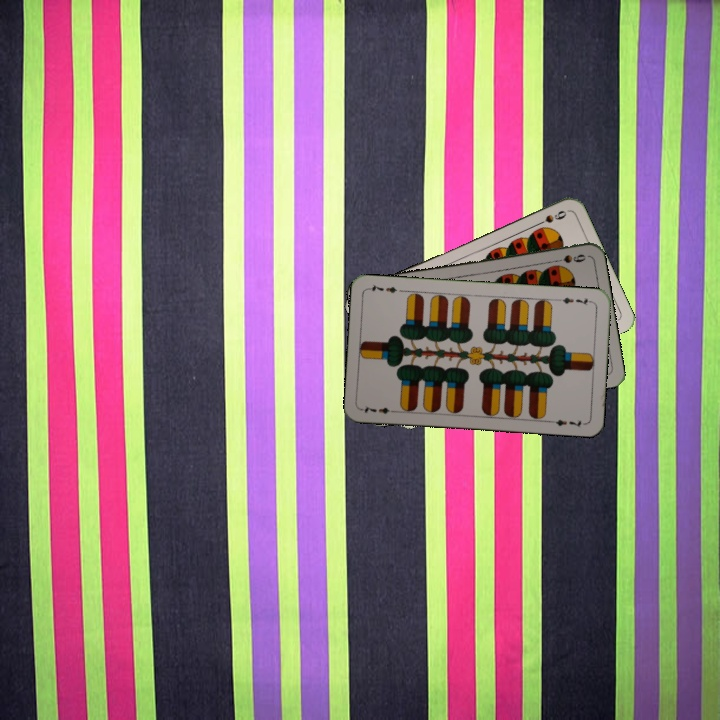E7: (359, 401, 399, 417), (554, 293, 595, 308)
S9: (531, 206, 569, 229), (548, 250, 589, 266)
